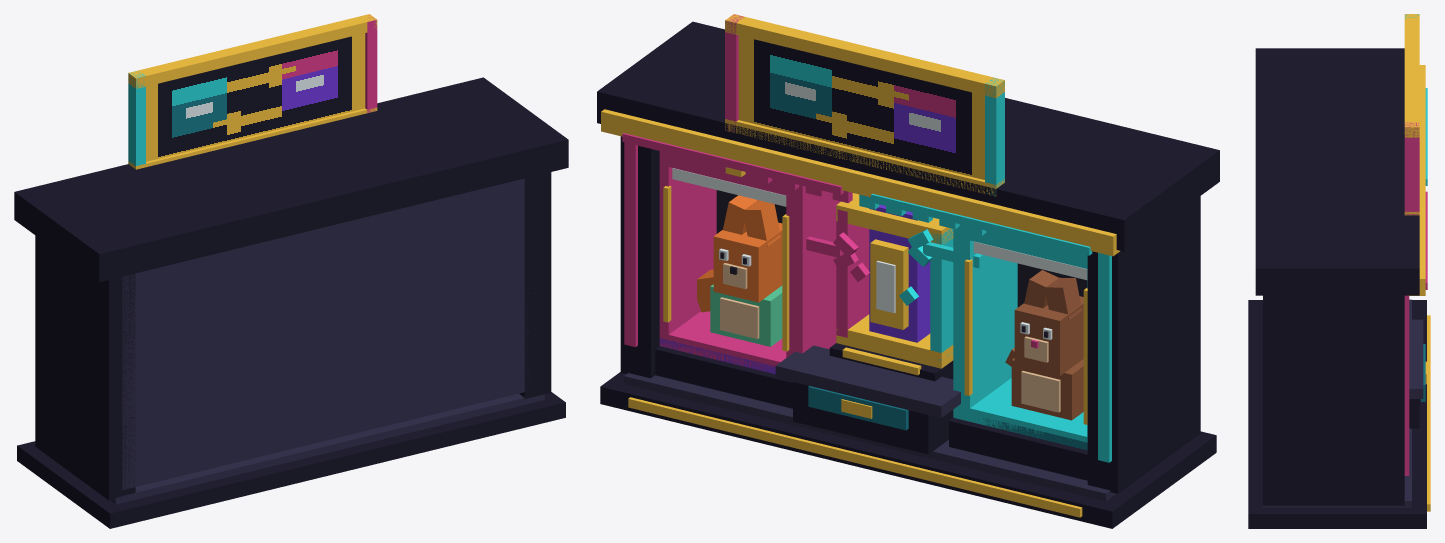
Rendered from KLC_Future_ExchangeBooth.fbx.
3 renders of one model, left to right at view 1: azimuth 30°, elevation 25°; view 2: azimuth 150°, elevation 25°; view 3: azimuth 270°, elevation 25°, orthographic. The views are drawn at different scales.
Parts seen in each view (by area): view 1: BackWall, Canopy, Pillar_Left, Exchange_Icon_Sign, Foundation, Pillar_Right, Foundation_Inset, Sign_Frame_Top, Sign_Frame_Left, Sign_Frame_Bottom, Sign_Frame_Right; view 2: Canopy, Pillar_Left, Exchange_Icon_Sign, Foundation, Canopy_Front, Input_FrameRight, Output_FrameLeft, Output_FrameRight, Pillar_Right, Counter_Top, Foundation_Inset, Sign_Frame_Top (+43 smaller); view 3: Canopy, Pillar_Right, Foundation, Sign_Frame_Top, Canopy_Front, Sign_Frame_Right, Counter_Top, Pillar_Right_Glow, Foundation_Inset, Front_Energy_Rail, Counter_Base, Canopy_RightGlow (+1 smaller).
Boxes of the visible parts, x1,y1,x2,y2 form: BackWall: [122, 178, 537, 490]; Canopy: [14, 77, 568, 282]; Pillar_Left: [35, 235, 135, 500]; Exchange_Icon_Sign: [146, 33, 365, 161]; Foundation: [17, 392, 565, 528]; Pillar_Right: [519, 172, 551, 398]; Foundation_Inset: [110, 393, 544, 504]; Sign_Frame_Top: [128, 14, 377, 88]; Sign_Frame_Left: [128, 71, 145, 165]; Sign_Frame_Bottom: [128, 107, 377, 169]; Sign_Frame_Right: [365, 15, 377, 113]; Canopy: [597, 21, 1219, 251]; Pillar_Left: [1087, 196, 1200, 493]; Exchange_Icon_Sign: [738, 35, 984, 179]; Foundation: [600, 372, 1216, 528]; Canopy_Front: [601, 109, 1119, 256]; Input_FrameRight: [953, 224, 1017, 421]; Output_FrameLeft: [786, 185, 840, 357]; Output_FrameRight: [659, 151, 716, 347]; Pillar_Right: [620, 136, 659, 378]; Counter_Top: [775, 345, 960, 417]; Foundation_Inset: [624, 373, 1116, 501]; Sign_Frame_Top: [725, 14, 1004, 98]; Canopy: [1255, 48, 1419, 295]; Pillar_Right: [1263, 295, 1404, 505]; Foundation: [1248, 300, 1426, 528]; Sign_Frame_Top: [1404, 14, 1419, 137]; Canopy_Front: [1408, 65, 1425, 295]; Sign_Frame_Right: [1404, 122, 1419, 214]; Counter_Top: [1409, 319, 1423, 398]; Pillar_Right_Glow: [1404, 295, 1409, 475]; Foundation_Inset: [1263, 299, 1411, 507]; Front_Energy_Rail: [1427, 315, 1430, 511]; Counter_Base: [1409, 399, 1419, 428]; Canopy_RightGlow: [1425, 191, 1427, 289].
Size of the model in its own units: 438 by 325 by 153.
Materials: 14 (14 with a texture image).
